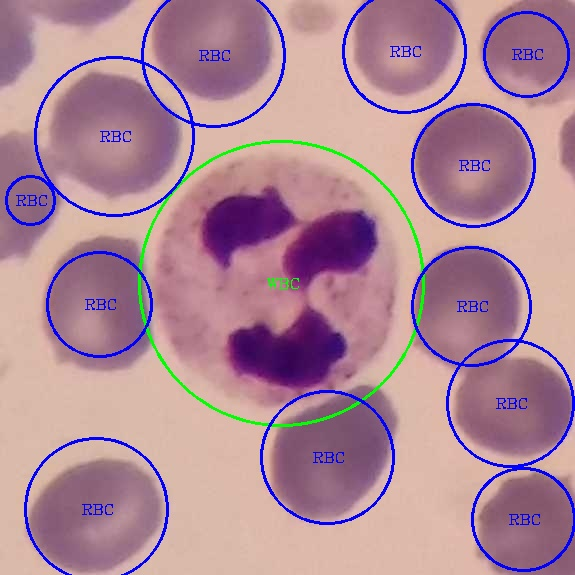RBC: (264, 381, 403, 527), (46, 66, 187, 205), (22, 453, 170, 574), (40, 231, 156, 378), (410, 241, 531, 372), (410, 102, 535, 228), (149, 0, 280, 106), (448, 354, 573, 462), (352, 0, 465, 99), (473, 467, 573, 574), (476, 0, 574, 104), (1, 126, 64, 272)
WBC: (143, 152, 404, 408)
